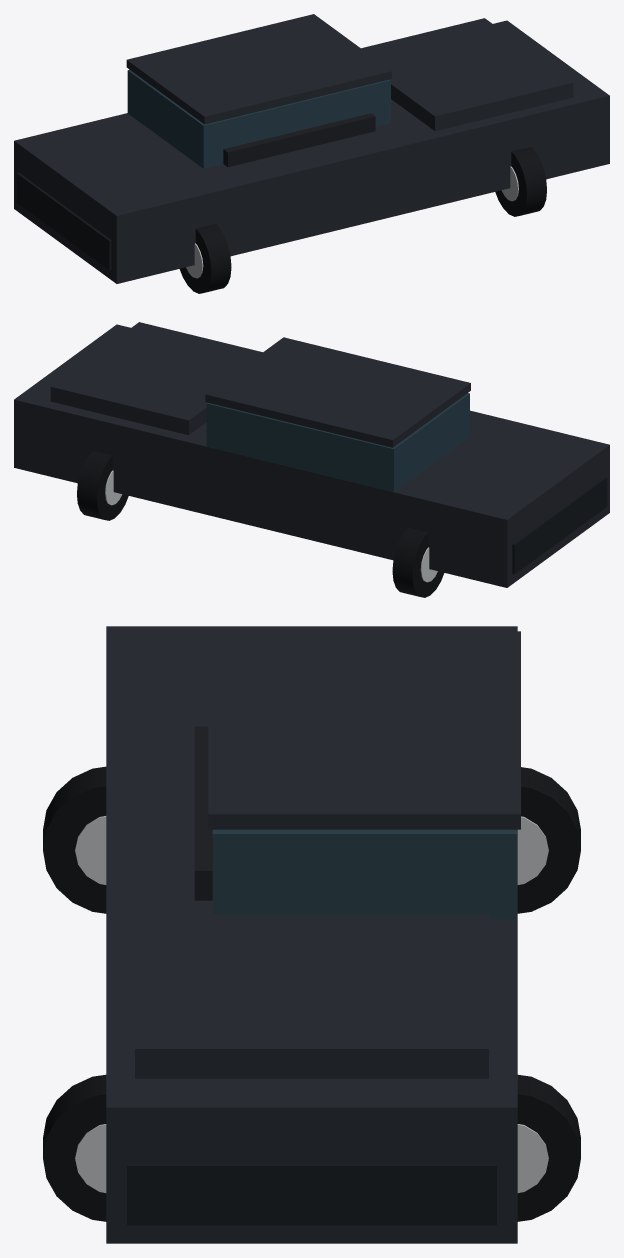
Rendered from rr_ghost_i.glb.
The picture shows the model from 3 angles, top to bottom: view 1: azimuth 30°, elevation 25°; view 2: azimuth 150°, elevation 25°; view 3: azimuth 270°, elevation 25°; orthographic projection. The views are drawn at different scales.
Parts seen in each view (by area): view 1: body, roof, hood, cabin, rear_bumper, interior, rear_right_wheel, front_right_wheel; view 2: body, roof, hood, cabin, rear_bumper, rear_left_wheel, front_left_wheel; view 3: body, roof, hood, cabin, front_bumper, front_left_wheel, front_right_wheel, rear_right_wheel, rear_left_wheel, interior.
Part boxes in pixels (left/top/right/bottom): body: left=14, top=20, right=609, bottom=283; roof: left=126, top=14, right=391, bottom=124; hood: left=361, top=18, right=573, bottom=131; cabin: left=127, top=69, right=390, bottom=168; rear_bumper: left=16, top=172, right=111, bottom=270; interior: left=223, top=113, right=375, bottom=167; rear_right_wheel: left=179, top=223, right=231, bottom=293; front_right_wheel: left=495, top=147, right=546, bottom=216; body: left=14, top=324, right=609, bottom=587; roof: left=205, top=337, right=470, bottom=447; hood: left=50, top=322, right=262, bottom=435; cabin: left=206, top=393, right=469, bottom=491; rear_bumper: left=512, top=476, right=607, bottom=574; rear_left_wheel: left=392, top=527, right=444, bottom=597; front_left_wheel: left=77, top=451, right=128, bottom=520; body: left=106, top=626, right=517, bottom=1243; roof: left=208, top=631, right=520, bottom=829; hood: left=135, top=914, right=488, bottom=1078; cabin: left=212, top=829, right=516, bottom=919; front_bumper: left=127, top=1163, right=496, bottom=1225; front_left_wheel: left=517, top=1074, right=580, bottom=1221; front_right_wheel: left=43, top=1074, right=106, bottom=1221; rear_right_wheel: left=43, top=766, right=106, bottom=913; rear_left_wheel: left=517, top=767, right=580, bottom=913; interior: left=194, top=726, right=212, bottom=900.
Size of the model in its own units: 5.45 by 1.56 by 2.55.
